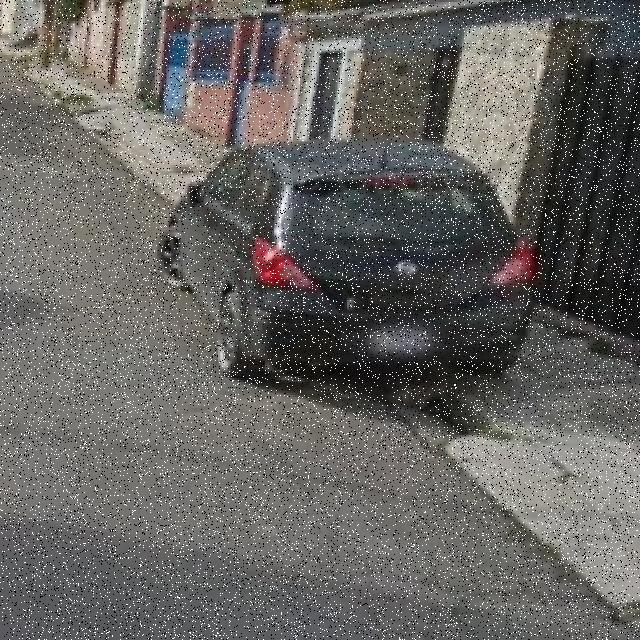cars: (170, 151, 538, 387)
